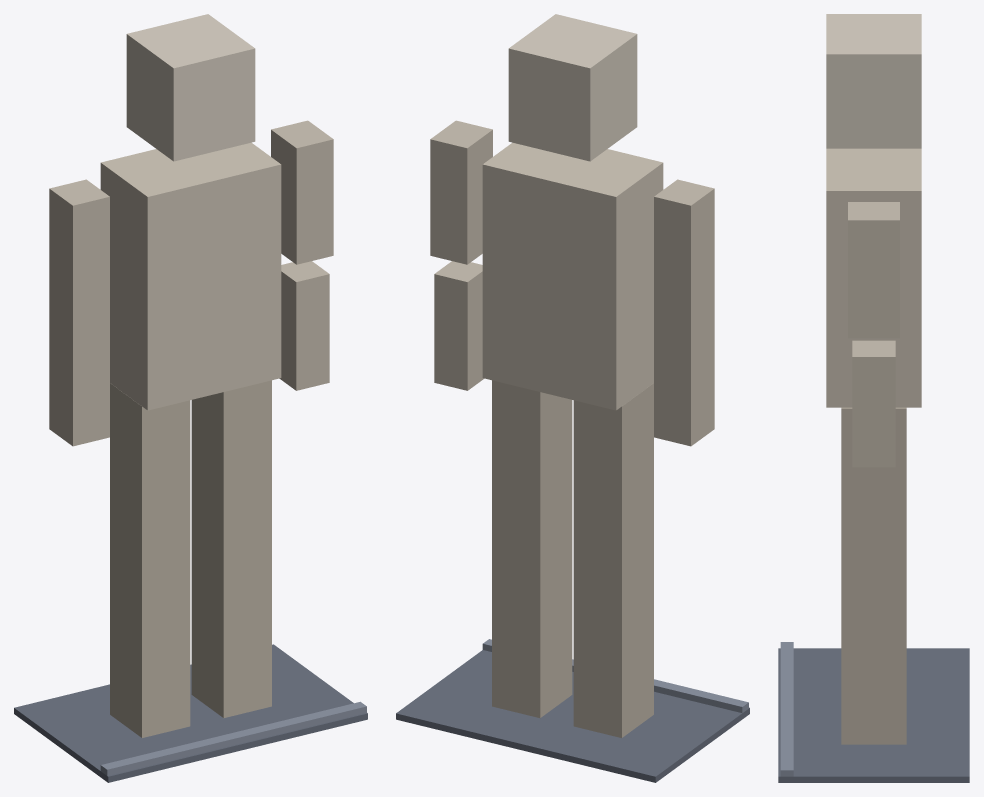
The picture shows the model from 3 angles, left to right: view 1: azimuth 30°, elevation 25°; view 2: azimuth 150°, elevation 25°; view 3: azimuth 270°, elevation 25°; orthographic projection.
Visible parts, largest first — view 1: FIX-G-TRUNK, FIX-G-LEG-R, FIX-G-LEG-L, FIX-G-PLATE, FIX-G-HEAD, FIX-G-ARM-R, FIX-G-ARM-L-UPPER, FIX-G-ARM-L-LOWER; view 2: FIX-G-TRUNK, FIX-G-LEG-R, FIX-G-LEG-L, FIX-G-PLATE, FIX-G-HEAD, FIX-G-ARM-R, FIX-G-ARM-L-UPPER, FIX-G-ARM-L-LOWER; view 3: FIX-G-PLATE, FIX-G-LEG-L, FIX-G-TRUNK, FIX-G-HEAD, FIX-G-ARM-L-UPPER, FIX-G-ARM-L-LOWER.
Boxes of the visible parts, <box> form: FIX-G-TRUNK: <box>100,142,281,410</box>; FIX-G-LEG-R: <box>110,383,190,737</box>; FIX-G-LEG-L: <box>191,380,271,717</box>; FIX-G-PLATE: <box>14,644,367,782</box>; FIX-G-HEAD: <box>126,14,255,161</box>; FIX-G-ARM-R: <box>49,179,109,446</box>; FIX-G-ARM-L-UPPER: <box>271,120,333,264</box>; FIX-G-ARM-L-LOWER: <box>279,261,329,390</box>; FIX-G-TRUNK: <box>482,142,663,410</box>; FIX-G-LEG-R: <box>573,383,653,737</box>; FIX-G-LEG-L: <box>492,380,572,717</box>; FIX-G-PLATE: <box>396,639,749,782</box>; FIX-G-HEAD: <box>508,14,637,161</box>; FIX-G-ARM-R: <box>654,179,714,446</box>; FIX-G-ARM-L-UPPER: <box>430,120,492,264</box>; FIX-G-ARM-L-LOWER: <box>434,261,484,390</box>; FIX-G-PLATE: <box>778,642,969,782</box>; FIX-G-LEG-L: <box>841,407,906,744</box>; FIX-G-TRUNK: <box>826,148,921,407</box>; FIX-G-HEAD: <box>826,14,921,148</box>; FIX-G-ARM-L-UPPER: <box>848,202,899,338</box>; FIX-G-ARM-L-LOWER: <box>852,340,895,467</box>.
Bounding box in the file's own units: 0.7 × 1.74 × 0.44.
